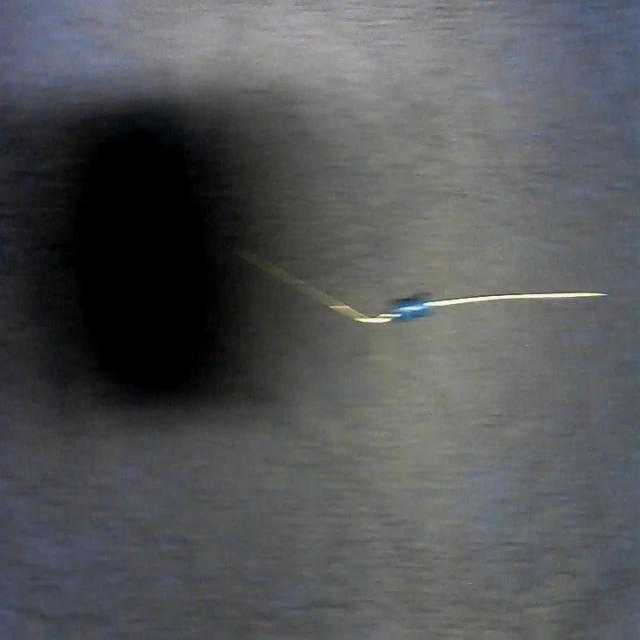resistor: (256, 262, 609, 319)
